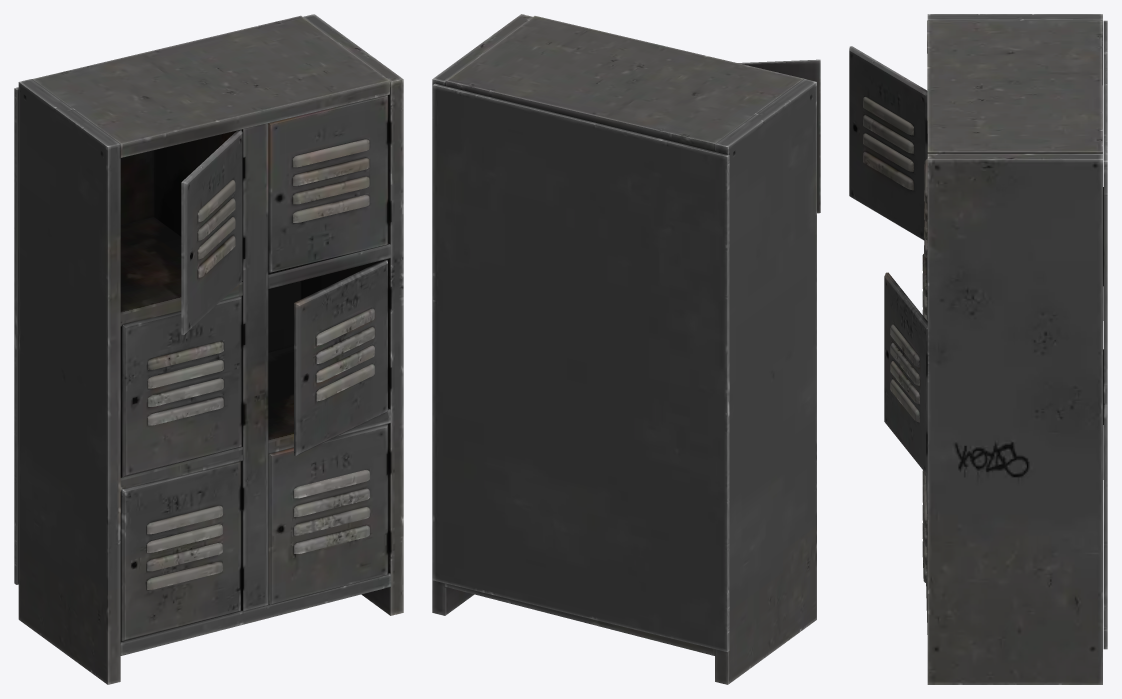
Rendered from locker_double.glb.
3 renders of one model, left to right at view 1: azimuth 30°, elevation 25°; view 2: azimuth 150°, elevation 25°; view 3: azimuth 270°, elevation 25°, orthographic.
Parts seen in each view (by area): view 1: Metal_Cabinet_02; view 2: Metal_Cabinet_02; view 3: Metal_Cabinet_02.
Boxes of the visible parts, bbox=[...] form: Metal_Cabinet_02: bbox=[14, 14, 403, 684]; Metal_Cabinet_02: bbox=[432, 14, 820, 684]; Metal_Cabinet_02: bbox=[849, 14, 1107, 684].
Size of the model in its own units: 1.43 by 2.47 by 1.09.
1 material, 1 textured.
